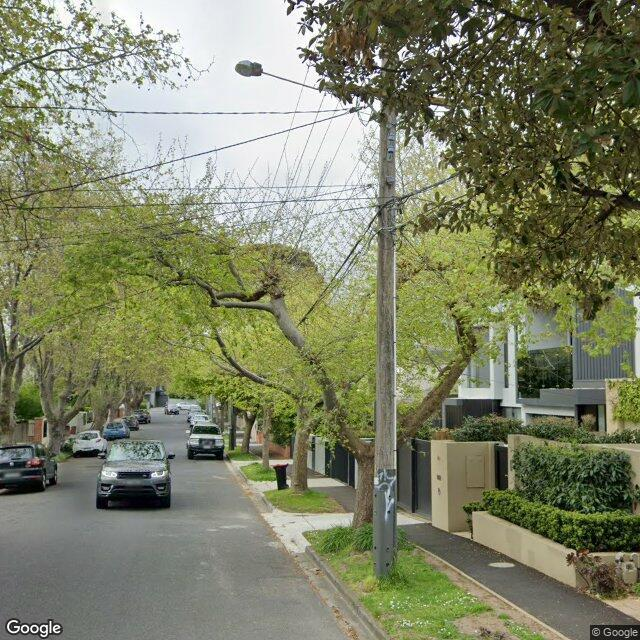crossarm: (319, 81, 454, 106)
streetlight: (234, 59, 323, 92)
timber-pole: (373, 49, 399, 577)
